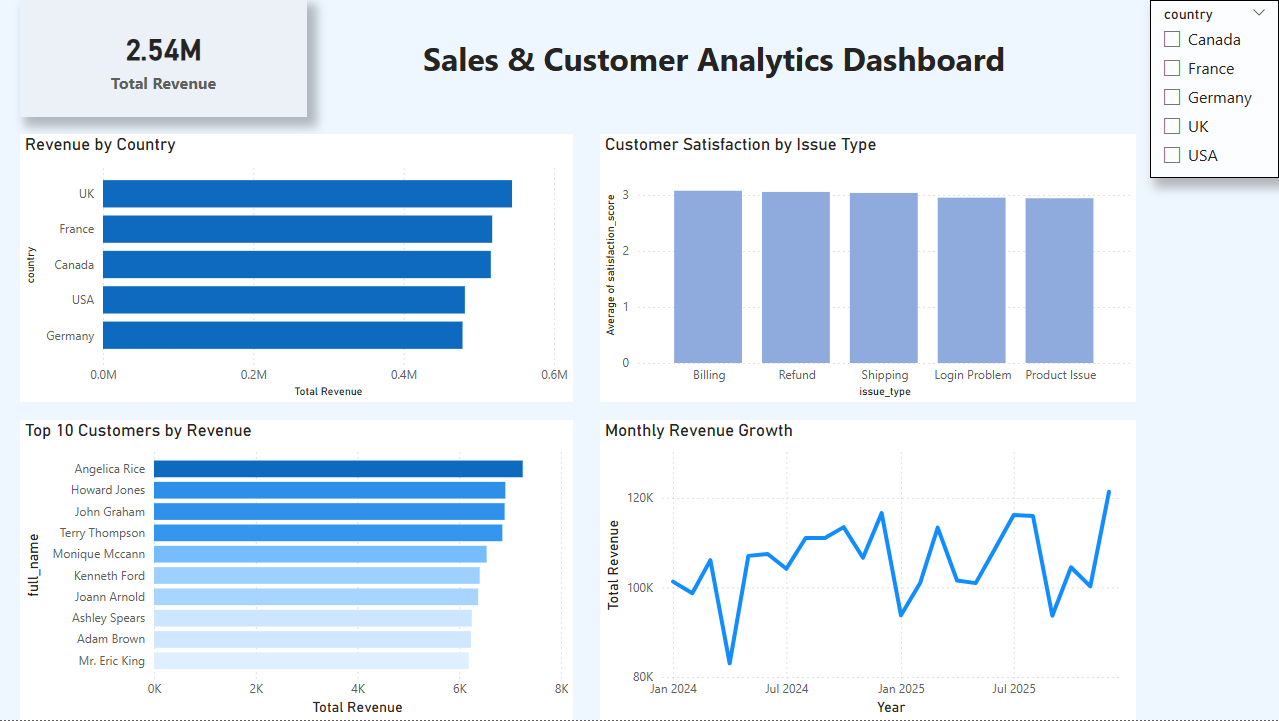

This screenshot's page, from the dashboard's own definition file:
{"tool":"powerbi","page":{"name":"Dashboard","canvas":[1280,720],"ordinal":0},"visuals":[{"type":"card","fields":{"Values":["public orders.Total Revenue"]},"box":[20.6,0,287.2,117.2],"z":0},{"type":"clusteredBarChart","title":"Revenue by Country","fields":{"Category":["public customers.country"],"Y":["public orders.Total Revenue"]},"box":[20.6,133.9,553.7,267.8],"z":1000},{"type":"lineChart","title":"Monthly Revenue Growth","fields":{"Category":["public orders.order_date.Variation.Date Hierarchy.Year","public orders.order_date.Variation.Date Hierarchy.Month"],"Y":["public orders.Total Revenue"]},"box":[601.4,419.8,535.7,300],"z":2000},{"type":"clusteredBarChart","title":"Top 10 Customers by Revenue","fields":{"Y":["public orders.Total Revenue"],"Category":["public customers.full_name"]},"box":[20.6,419.8,553.7,300],"z":3000},{"type":"clusteredColumnChart","title":"Customer Satisfaction by Issue Type","fields":{"Category":["public support_tickets.issue_type"],"Y":["Avg(public support_tickets.satisfaction_score)"]},"box":[601.4,133.9,535.7,267.8],"z":4000},{"type":"textbox","box":[418.5,30.9,607.8,68.2],"z":5000},{"type":"slicer","fields":{"Values":["public customers.country"]},"box":[1151.2,0,128.8,177.7],"z":6000}]}

Visuals, with their boxes in screenshot pixels (x1, y1, x2, y2), scaled from the page's 1280x720 canvas onto the 1279x721 screenshot:
card - public orders.Total Revenue: 21 0 308 117
"Revenue by Country" clusteredBarChart: 21 134 574 402
"Monthly Revenue Growth" lineChart: 601 420 1136 720
"Top 10 Customers by Revenue" clusteredBarChart: 21 420 574 720
"Customer Satisfaction by Issue Type" clusteredColumnChart: 601 134 1136 402
textbox: 418 31 1025 99
slicer - public customers.country: 1150 0 1278 178
